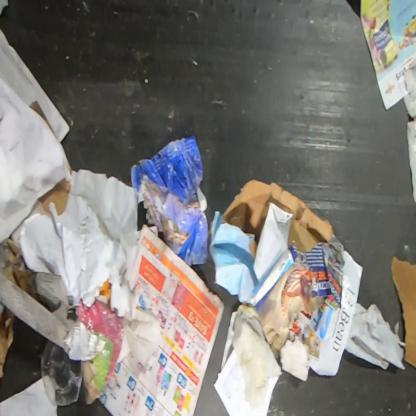cardboard: (209, 180, 347, 358), (0, 240, 106, 360), (130, 135, 209, 267), (391, 256, 416, 368), (38, 179, 70, 216), (0, 301, 15, 379), (29, 101, 54, 133), (67, 160, 75, 178)
soft_plastic: (40, 341, 83, 406)
